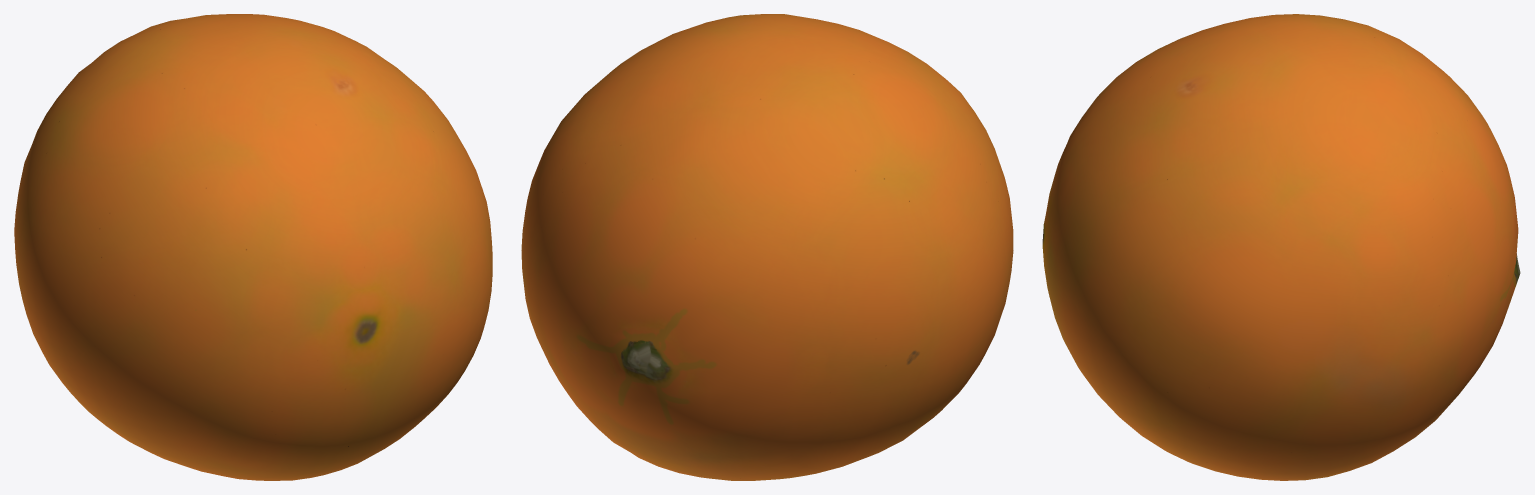
The model's file is Orange.fbx.
The picture shows the model from 3 angles, left to right: view 1: azimuth 30°, elevation 25°; view 2: azimuth 150°, elevation 25°; view 3: azimuth 270°, elevation 25°; orthographic projection. The views are drawn at different scales.
Visible parts, largest first — view 1: Orange; view 2: Orange; view 3: Orange.
Part boxes in pixels (box(x1,y1,x2,y2)): Orange: box(14, 14, 492, 480); Orange: box(521, 14, 1013, 480); Orange: box(1042, 14, 1520, 480).
Bounding box in the file's own units: 2.75 × 2.65 × 2.8.
1 material, 1 textured.
